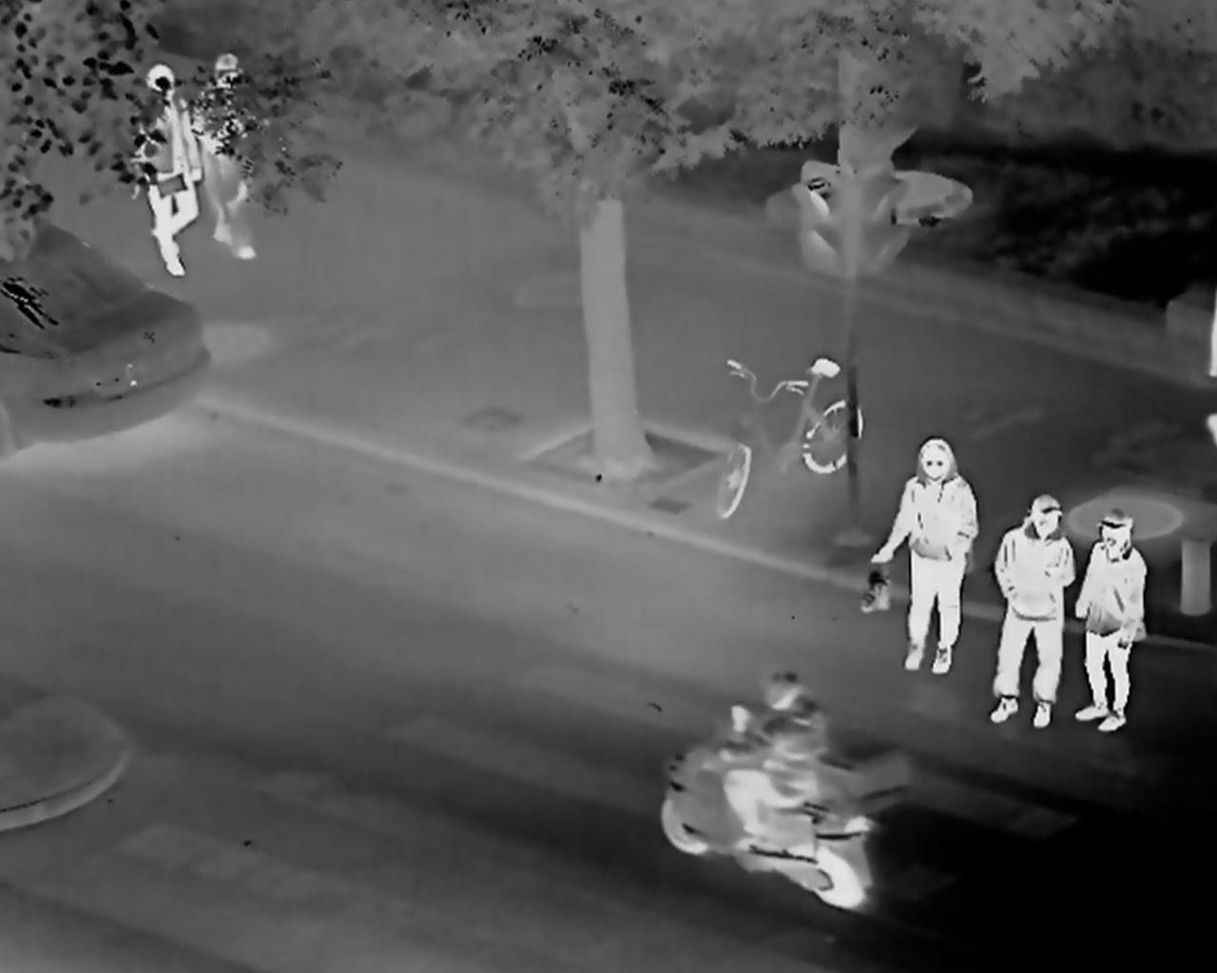person: (869, 435, 977, 677), (710, 665, 837, 870), (995, 493, 1074, 733), (187, 48, 264, 266), (1072, 506, 1145, 735), (130, 66, 200, 272)
